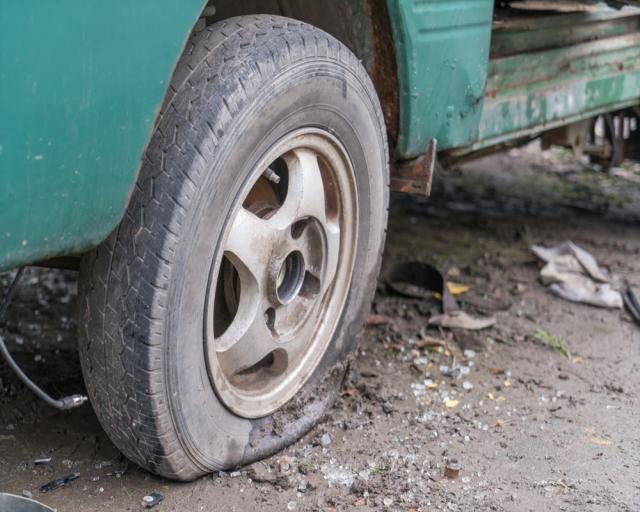tire flat: (76, 15, 390, 483)
